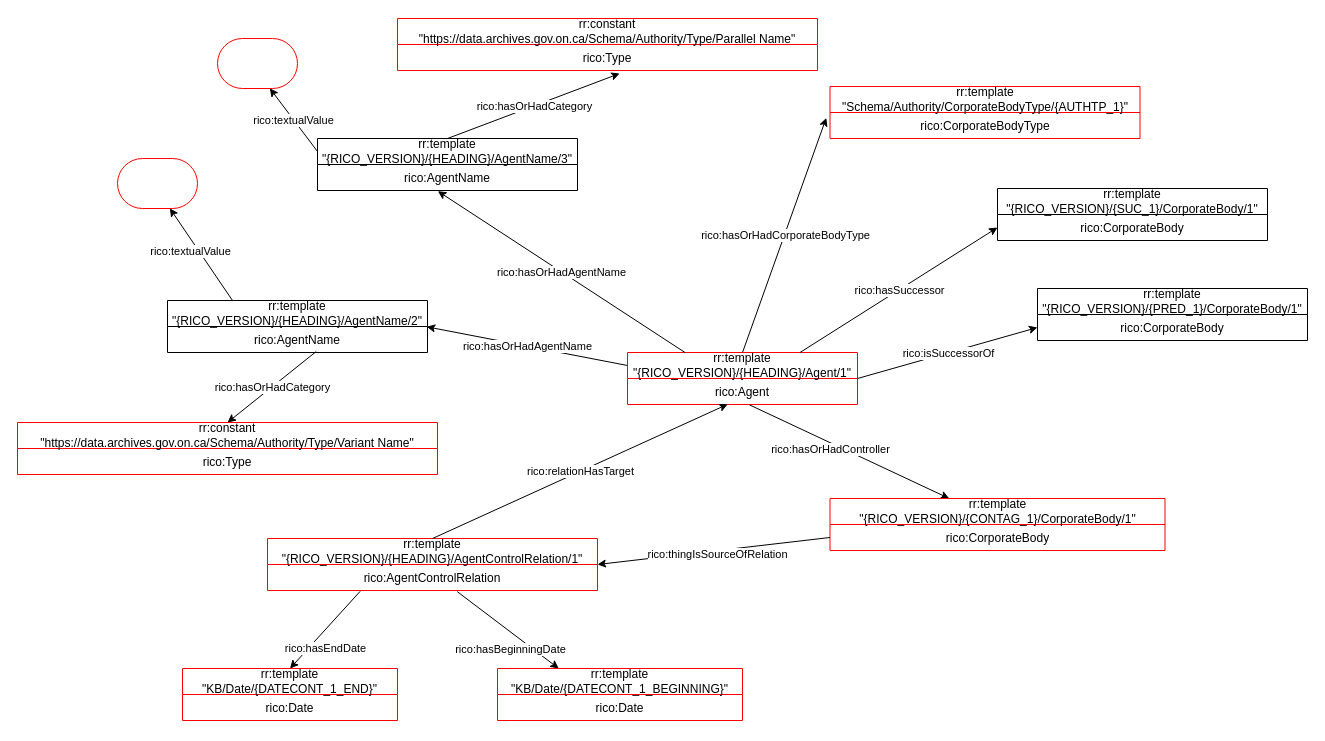
The diagram is 1325 pixels wide and 741 high, and some of its shapes have lost their labels. The shapes that lost their labels are listed below. From the top down, each one's centre as x and y in pixels, then its label:
[257,63]: rml:reference "PAR_1"
[157,183]: rml:reference "VAR_1"
